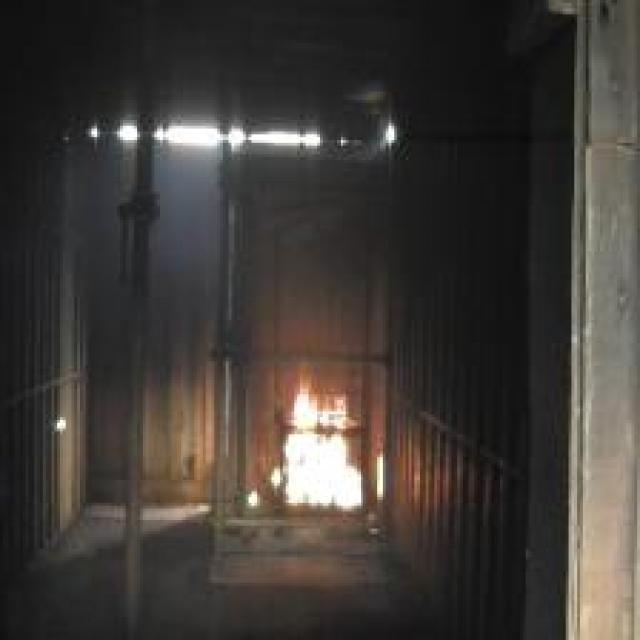Fire: (282, 368, 362, 508)
